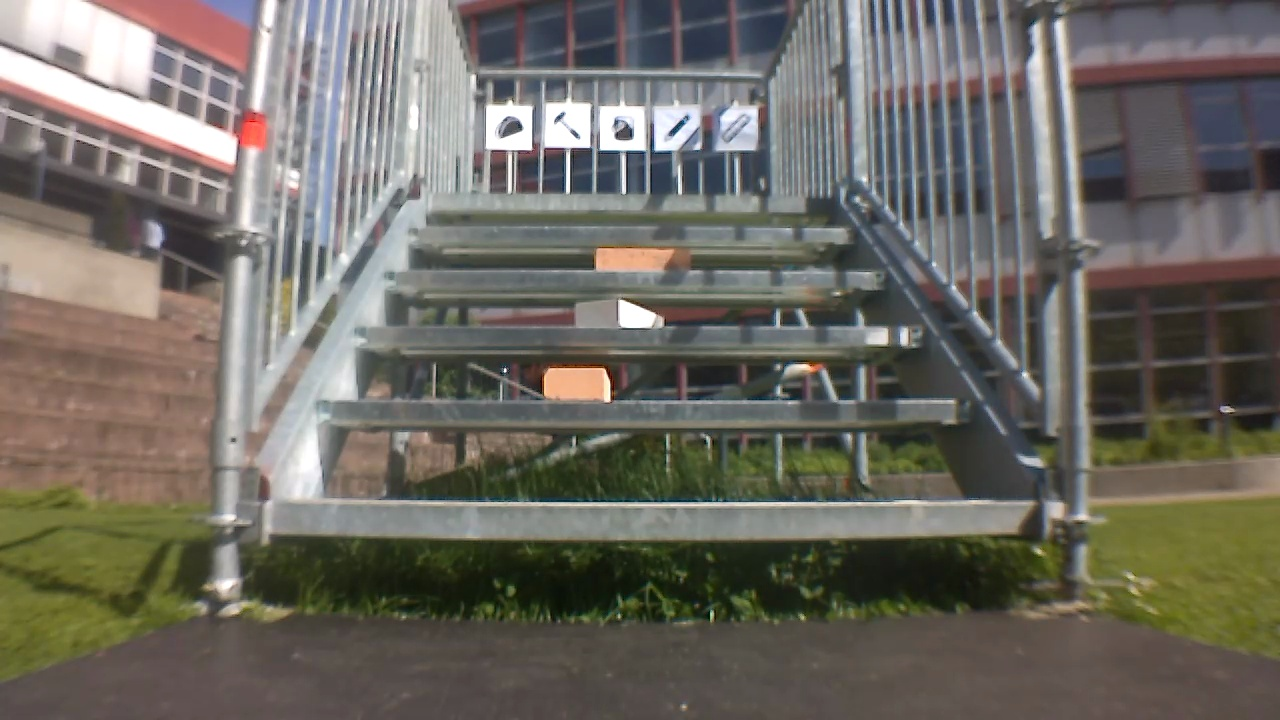brick: (573, 299, 665, 330), (588, 247, 693, 274), (534, 367, 605, 399)
bucket: (609, 113, 639, 145)
edge: (261, 498, 1050, 543), (316, 396, 977, 428), (349, 321, 926, 351), (405, 223, 859, 252), (383, 272, 887, 295), (427, 190, 841, 208)
hammer: (547, 105, 580, 144)
pencil: (662, 110, 695, 141)
ruler: (716, 109, 752, 146)
stairs: (217, 0, 1092, 610)
steps: (244, 190, 1058, 548)
taco: (493, 114, 528, 140)
